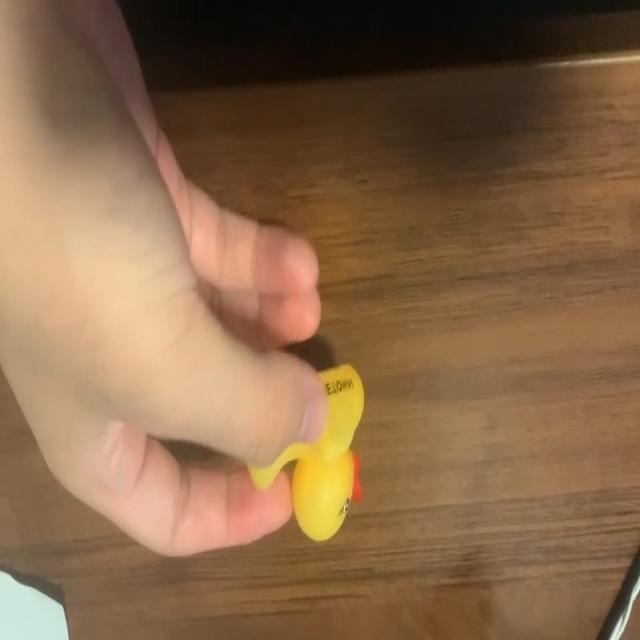rubber-duck: (247, 363, 362, 539)
